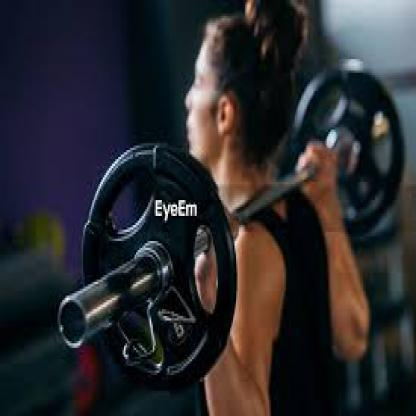Barbell: (58, 292, 91, 353)
